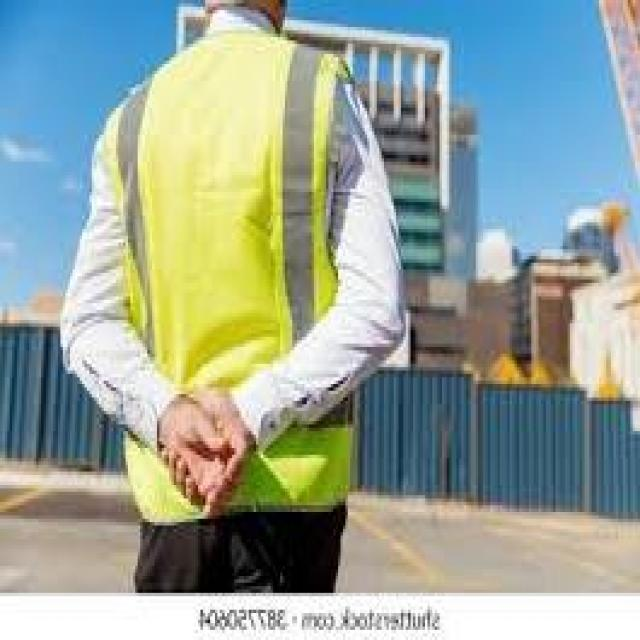Reflective-Jacket: (89, 17, 372, 535)
